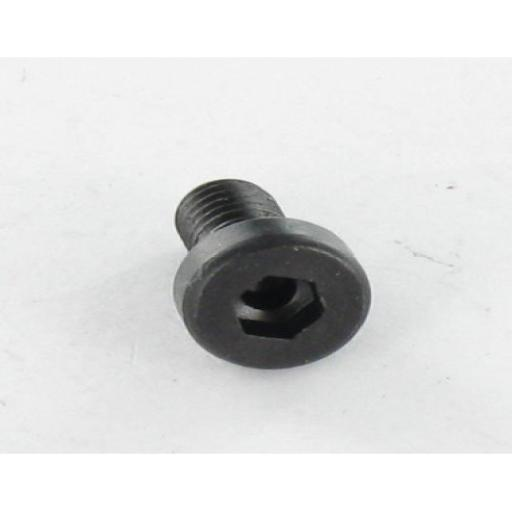Hex-Allen: (179, 214, 364, 370)
